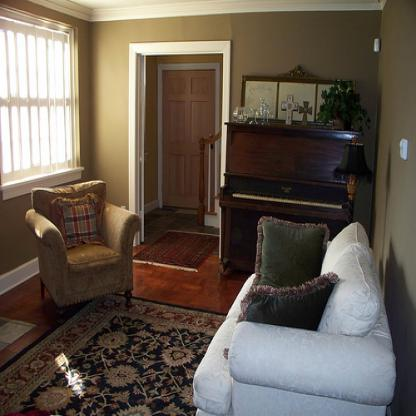chair: (23, 179, 141, 326)
pottedplant: (317, 79, 372, 133)
sofa: (191, 221, 398, 415)
